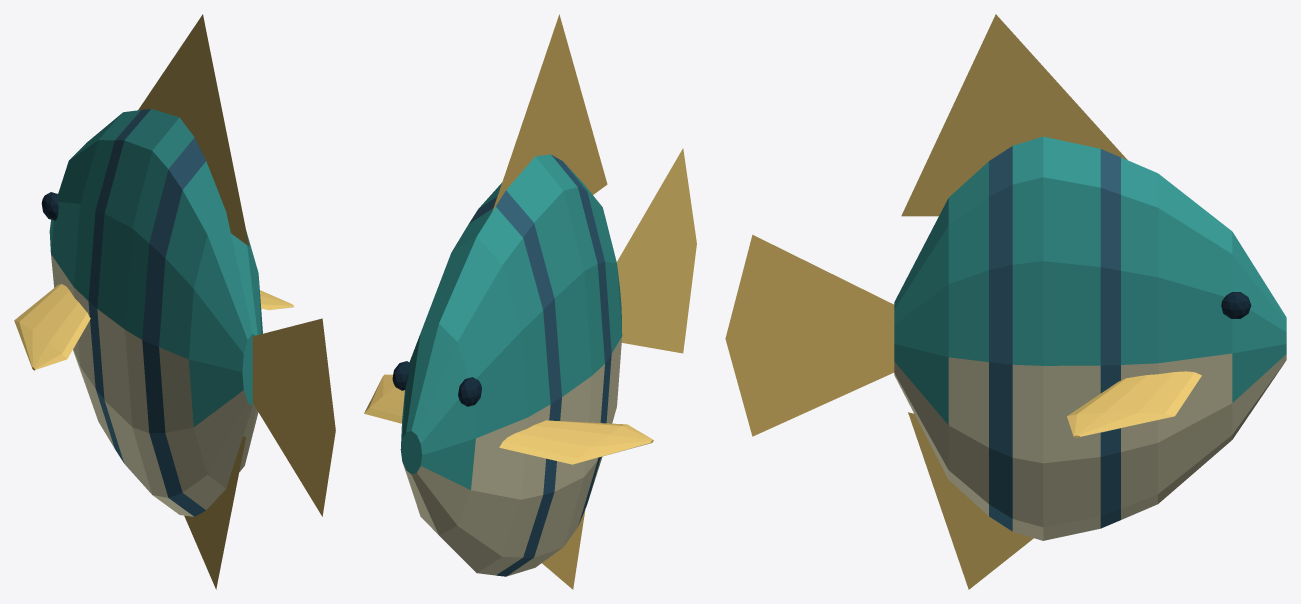
Rendered from wild_reef_fish.glb.
The picture shows the model from 3 angles, left to right: view 1: azimuth 30°, elevation 25°; view 2: azimuth 150°, elevation 25°; view 3: azimuth 270°, elevation 25°; orthographic projection. The views are drawn at different scales.
Parts seen in each view (by area): view 1: continuous reef body, rounded tail, reef paddle; view 2: continuous reef body, rounded tail, reef paddle, reef paddle.001; view 3: continuous reef body, rounded tail, reef paddle.001.
Boxes of the visible parts, x1,y1,x2,y2 form: continuous reef body: [41, 14, 262, 589]; rounded tail: [252, 318, 335, 516]; reef paddle: [14, 284, 90, 370]; continuous reef body: [392, 14, 622, 589]; rounded tail: [616, 148, 696, 353]; reef paddle: [499, 420, 653, 464]; reef paddle.001: [364, 374, 404, 423]; continuous reef body: [894, 14, 1286, 589]; rounded tail: [725, 234, 894, 436]; reef paddle.001: [1067, 371, 1201, 437].
Bounding box in the file's own units: 0.45 × 0.94 × 0.83.
